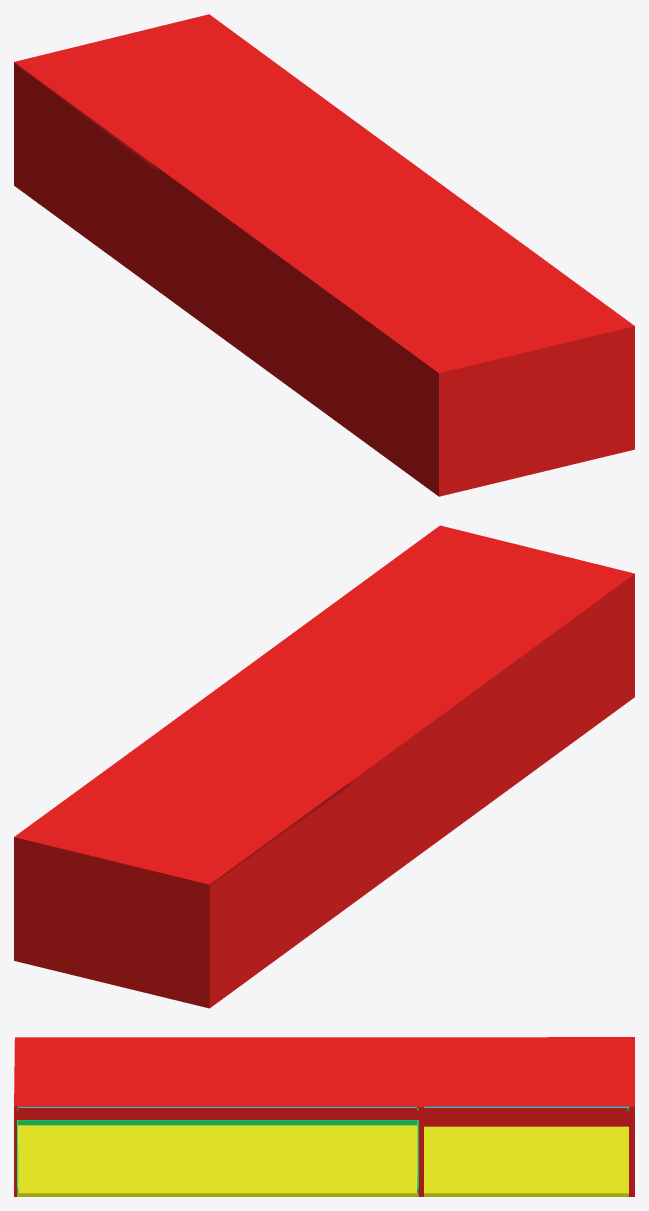
Rendered from store_double.FBX.
The picture shows the model from 3 angles, top to bottom: view 1: azimuth 30°, elevation 25°; view 2: azimuth 150°, elevation 25°; view 3: azimuth 270°, elevation 25°; orthographic projection. The views are drawn at different scales.
Visible parts, largest first — view 1: Box003; view 2: Box003; view 3: Box003.
Boxes of the visible parts, <box> form: Box003: <box>14,14,634,496</box>; Box003: <box>14,525,634,1008</box>; Box003: <box>14,1037,634,1196</box>.
Size of the model in its own units: 187 by 113 by 707.
